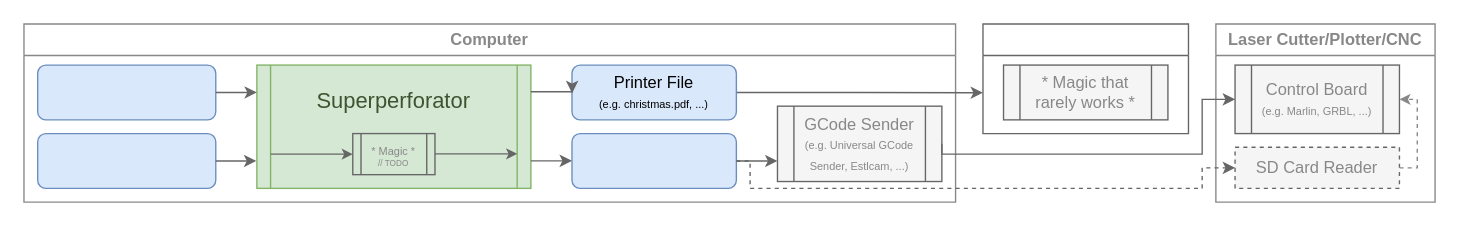
Image size: 1459x226. Some labels were removed from this diagram. The box of each missing label's shape, as (x1, y1, x2, y2) in pixels:
(24x) Window Images (e.g. day1.png, day2.png, ...): (36, 132, 216, 188)
(Color) Printer: (982, 23, 1188, 134)
Perforation File (e.g. perf.gcode, laser.nc, ...): (571, 132, 736, 188)
Top Image (e.g. top.png): (36, 64, 216, 120)
